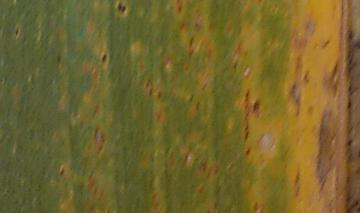tarspot: (344, 193, 360, 213), (115, 1, 129, 14), (175, 1, 185, 16), (252, 99, 261, 115), (144, 78, 152, 96), (345, 95, 354, 108), (99, 52, 109, 63), (320, 39, 331, 49), (187, 35, 195, 48), (232, 58, 239, 72), (353, 39, 360, 51), (345, 138, 354, 147), (58, 165, 66, 175), (347, 29, 354, 39), (244, 146, 251, 155), (14, 27, 21, 35), (156, 88, 161, 99), (55, 53, 61, 62)
